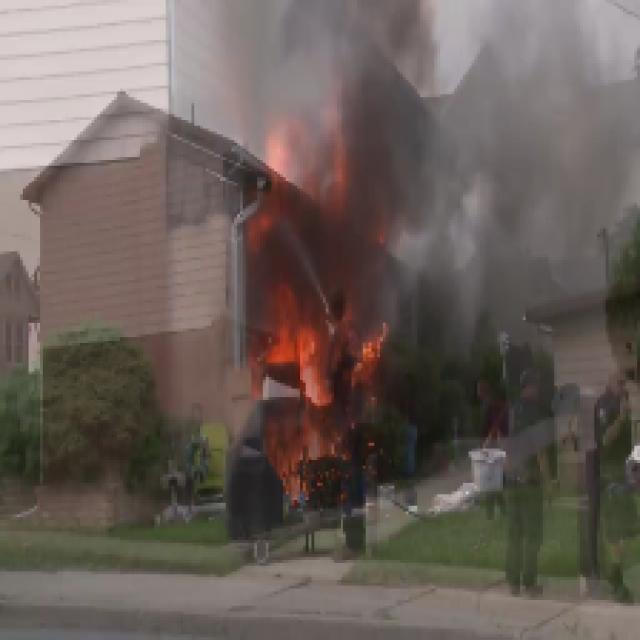Smoke: (242, 0, 640, 352)
